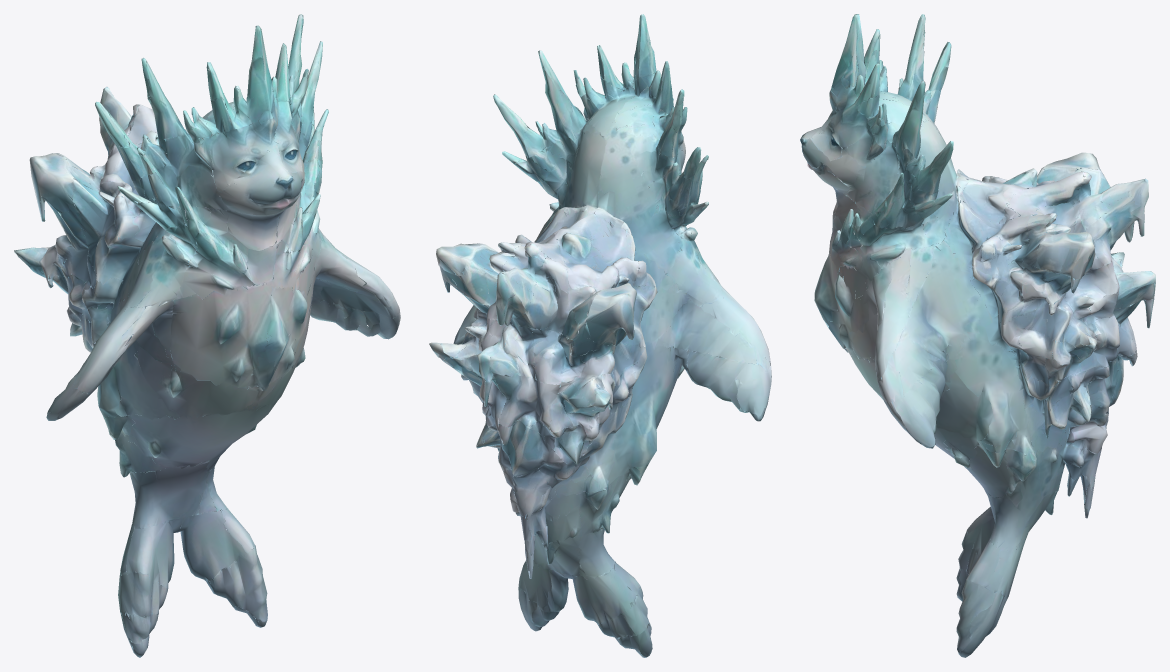
The picture shows the model from 3 angles, left to right: view 1: azimuth 30°, elevation 25°; view 2: azimuth 150°, elevation 25°; view 3: azimuth 270°, elevation 25°; orthographic projection. The views are drawn at different scales.
Visible parts, largest first — view 1: Mesh_0; view 2: Mesh_0; view 3: Mesh_0.
Boxes of the visible parts, x1,y1,x2,y2 form: Mesh_0: (14,14,400,657); Mesh_0: (429,14,771,657); Mesh_0: (800,14,1155,657).
Size of the model in its own units: 1.03 by 1.9 by 0.994.
1 material, 1 textured.
